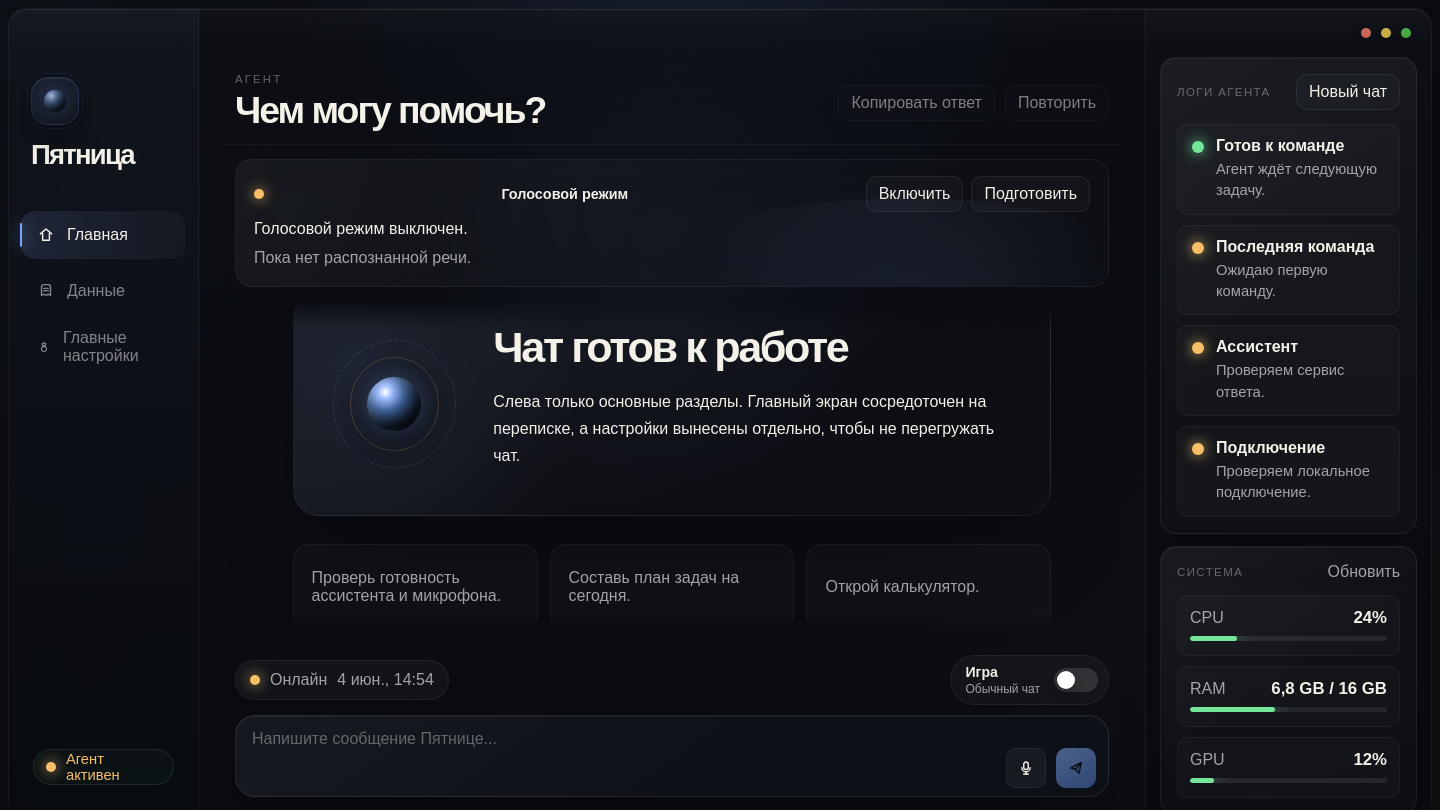
FridayApp › opens the user data view and renders remembered entries
Click the button "Данные" at [104, 291], box left=21, top=267, right=186, bottom=315
(page scrolled)
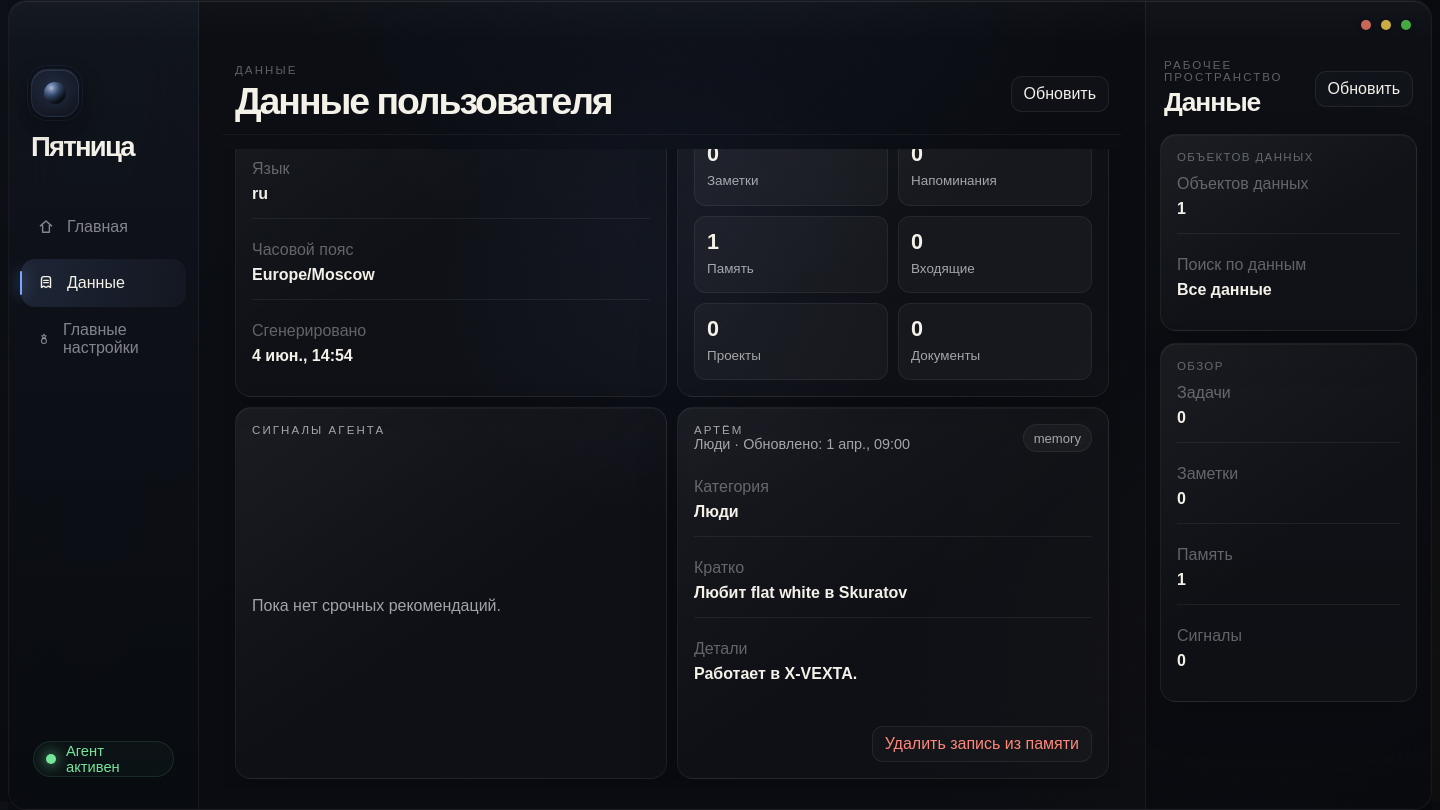
Check: the text "Артём" is shown, box left=694, top=424, right=744, bottom=436
Check: the text "Любит flat white в Skuratov" is shown, box left=694, top=584, right=907, bottom=601
